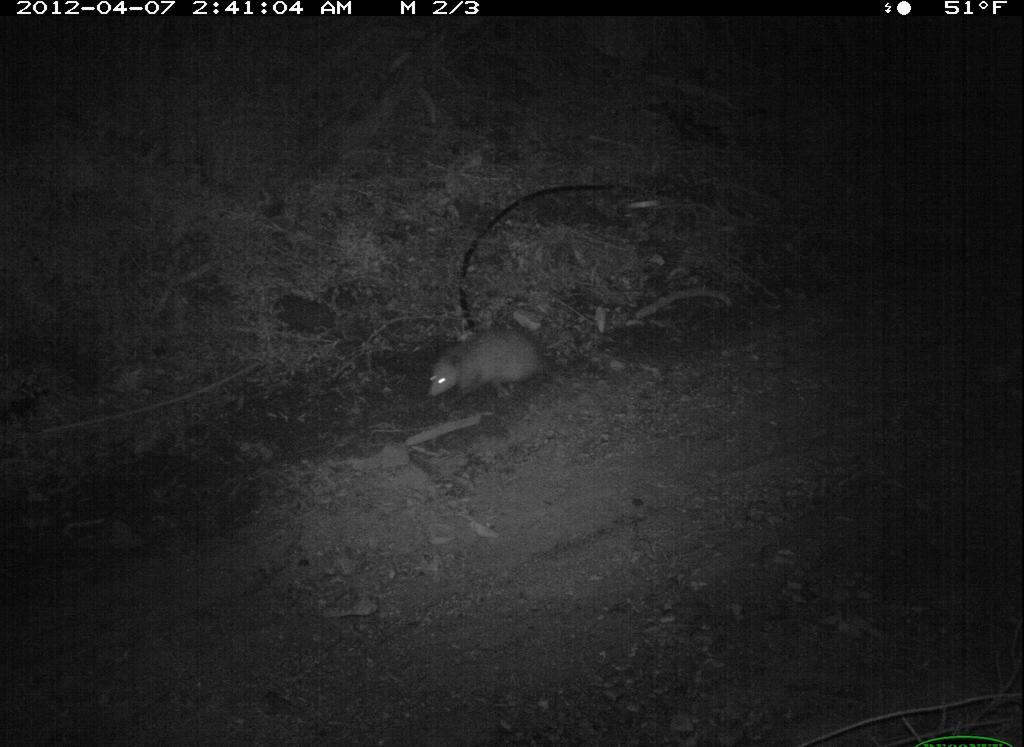opossum: (416, 314, 600, 410)
